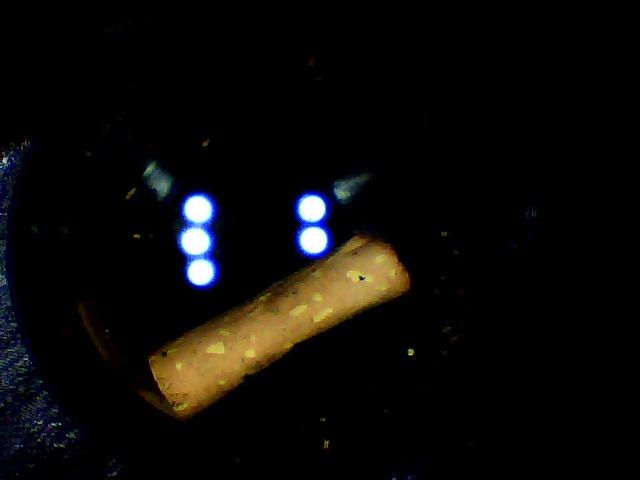megot: (128, 220, 417, 424)
